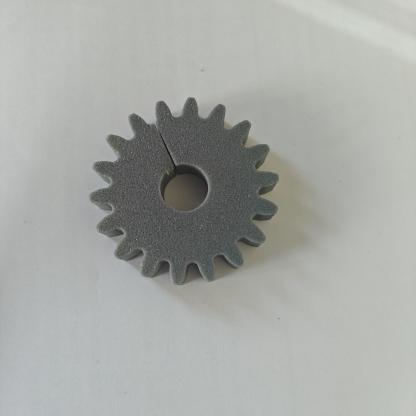defect: (126, 98, 205, 179)
gear: (83, 96, 286, 288)
